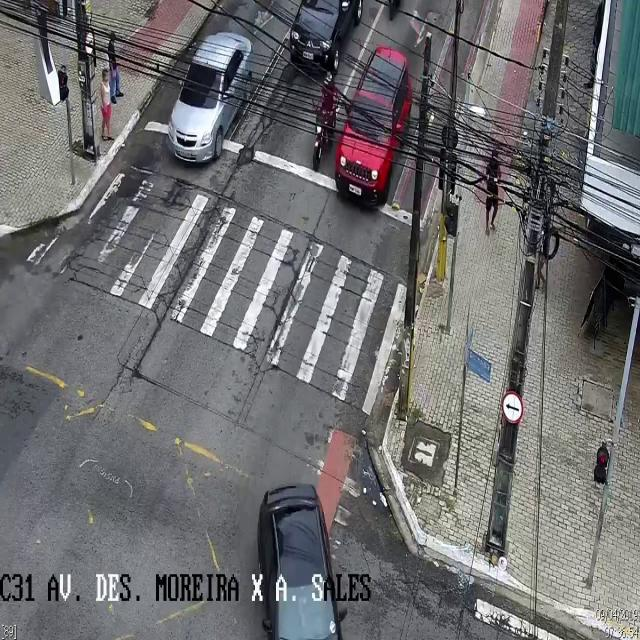Car: (257, 485, 347, 639), (336, 45, 412, 206), (168, 30, 252, 164), (290, 1, 364, 73)
Motorcycle: (313, 70, 337, 172)
